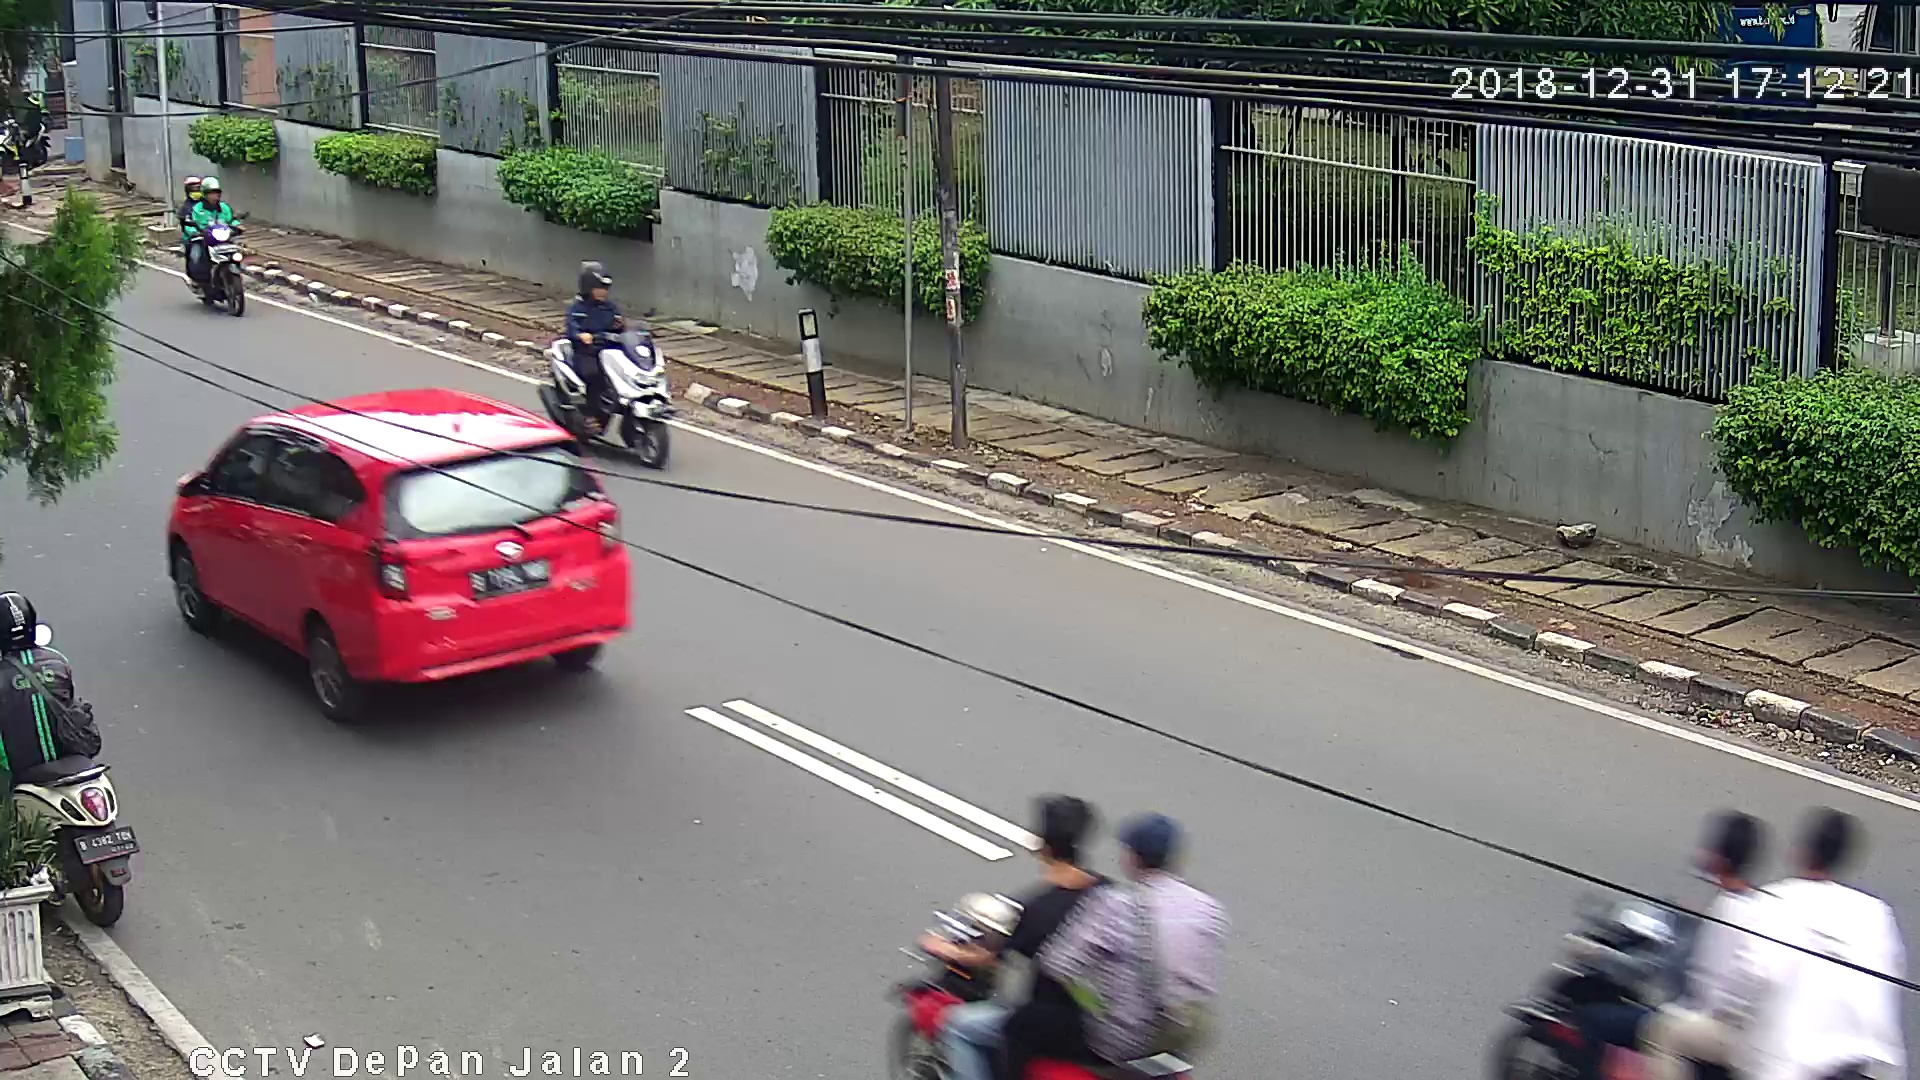car: (160, 392, 632, 721)
motorcycle: (1, 589, 142, 938), (538, 268, 679, 473), (173, 171, 251, 323)
